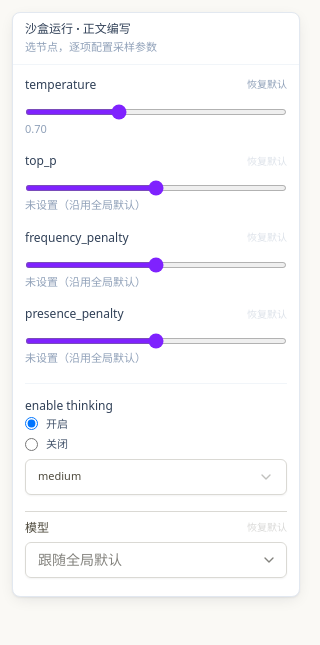
Scenario: NodeLlmParamsPanel model_ref override › 自定义模型 label 为空时显示 model 字段而非 id
Expected: the dropdown with placeholder "跟随全局默认" is shown, [26,542,257,578]
Click the 6th button.
click(269, 560)  # box [257,548,281,572]
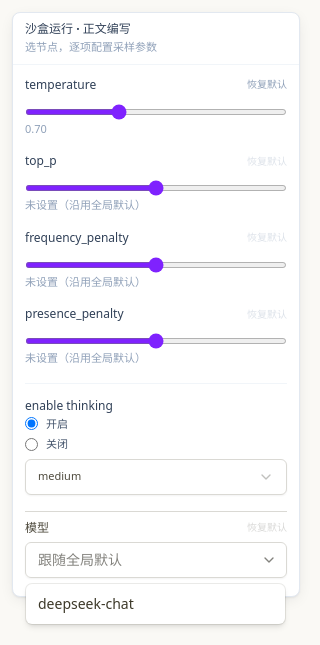
Click the option "deepseek-chat".
click(86, 604)  # box [38,594,134,613]
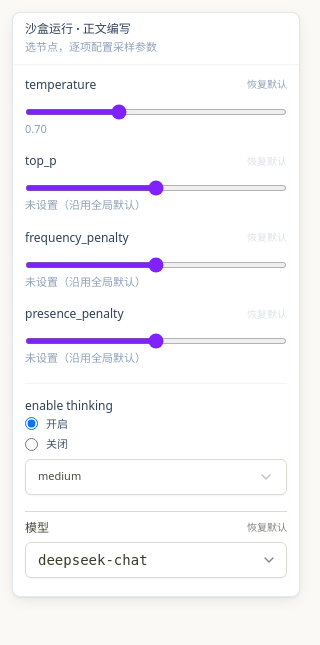
Expected: the dropdown with placeholder "跟随全局默认" holds "deepseek-chat", [26,542,257,578]
